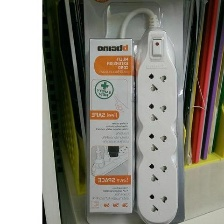book: (82, 0, 189, 224)
three_eye_plug: (133, 26, 180, 223)
